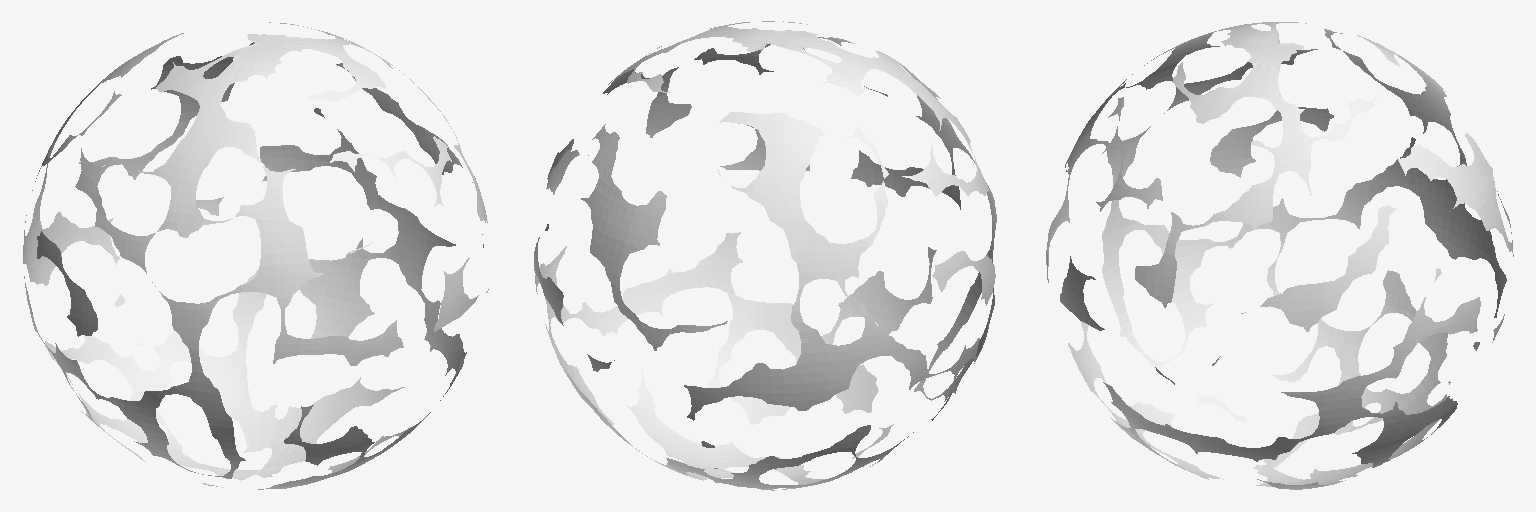
The model's file is Explosion1.obj.
3 views of the same model, side by side, from view 1: azimuth 30°, elevation 25°; view 2: azimuth 150°, elevation 25°; view 3: azimuth 270°, elevation 25° (orthographic).
Parts seen in each view (by area): view 1: Explosionb1; view 2: Explosionb1; view 3: Explosionb1.
Boxes of the visible parts, <box> form: Explosionb1: <box>23,22,488,489</box>; Explosionb1: <box>534,21,996,490</box>; Explosionb1: <box>1046,22,1513,489</box>.
Bounding box in the file's own units: 5.58 × 5.64 × 5.62.